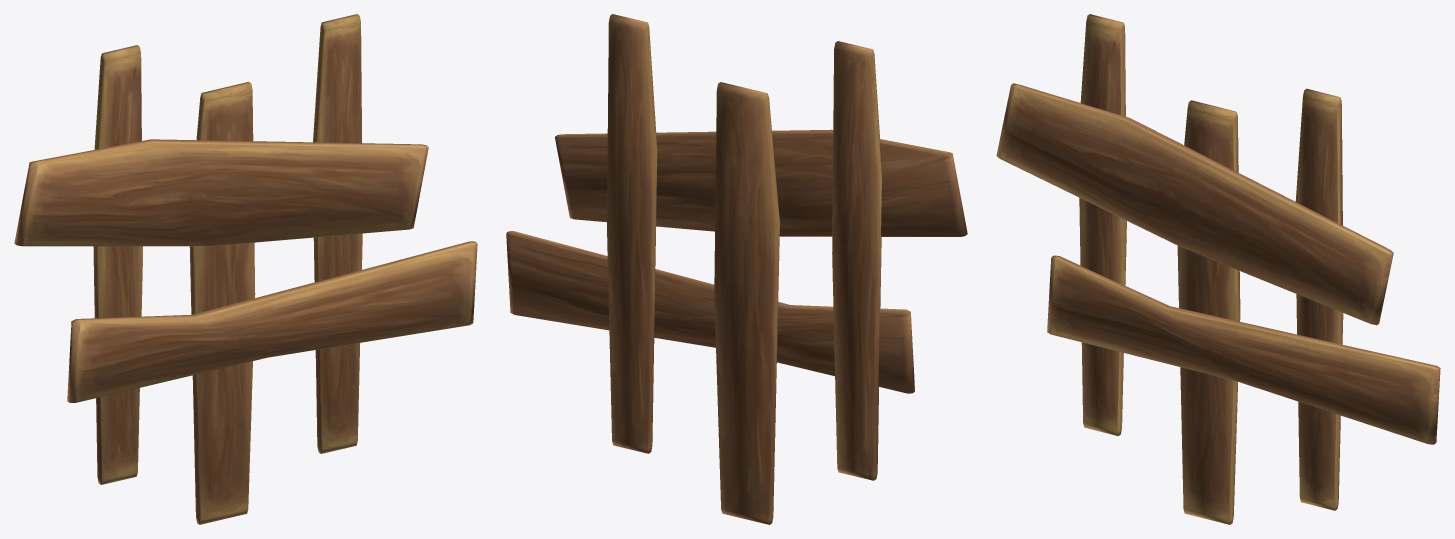
Rendered from Fencing.fbx.
3 views of the same model, side by side, from view 1: azimuth 30°, elevation 25°; view 2: azimuth 150°, elevation 25°; view 3: azimuth 330°, elevation 25° (orthographic). The views are drawn at different scales.
Parts seen in each view (by area): view 1: barricade1; view 2: barricade1; view 3: barricade1.
Boxes of the visible parts, box(x1,y1,x2,y2) form: barricade1: box(14, 14, 477, 524); barricade1: box(506, 14, 967, 524); barricade1: box(996, 14, 1440, 524).
Size of the model in its own units: 28.33 by 29.2 by 1.3.
